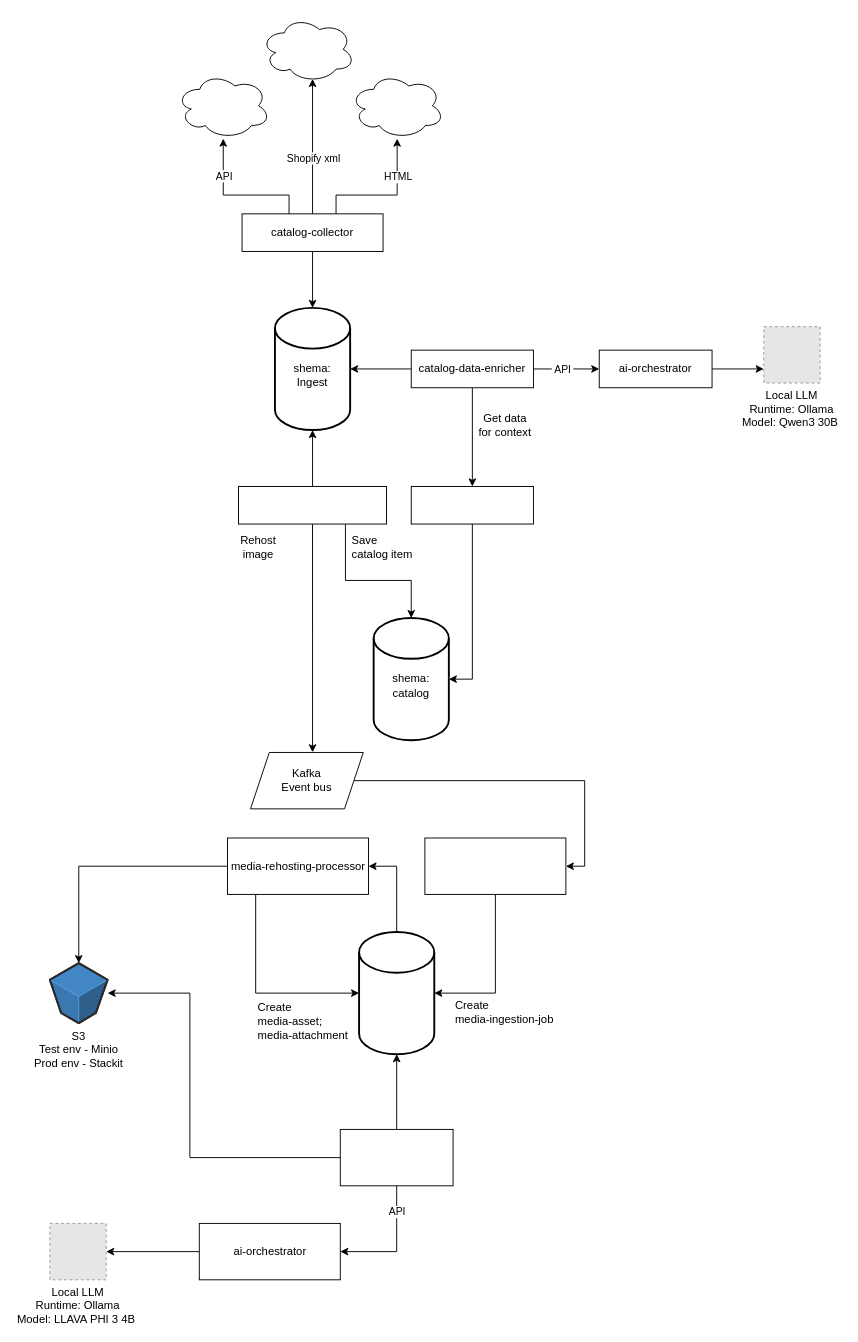
Image size: 858x1342. Some labels were removed from this diagram. Grey dashed boxes stand in for pictures. The box of each missing label's shape, as (x1, y1, x2, y2) in pixels:
catalog-api-service: (410, 486, 533, 524)
catalog-importer: (238, 486, 387, 524)
media-normalization: (339, 1128, 453, 1186)
media-rehosting-subsriber: (424, 837, 566, 894)
shema: media: (358, 931, 435, 1055)
